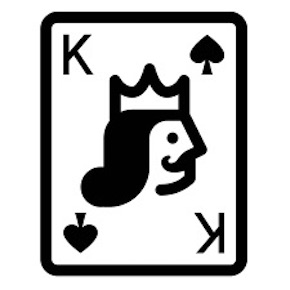KingOfSpades: (37, 8, 253, 280)
